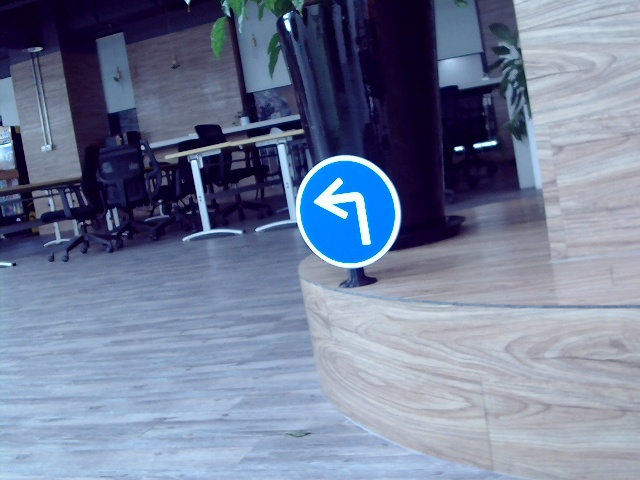turn_left: (312, 175, 371, 245)
